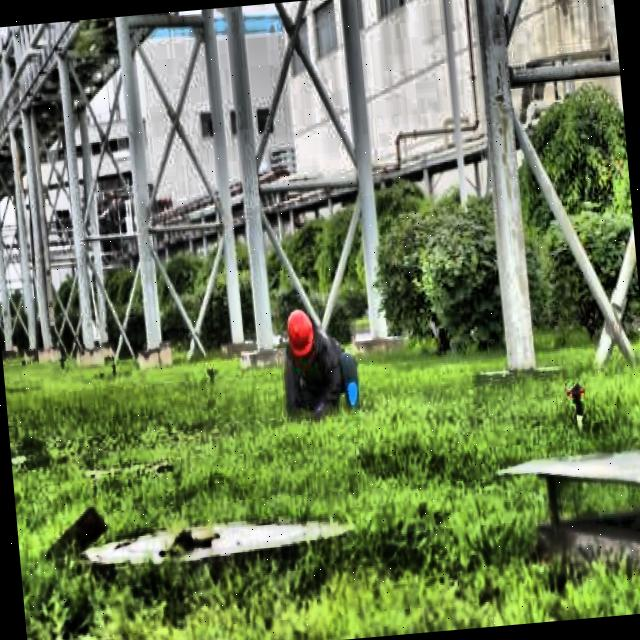helmet: (284, 302, 318, 360)
